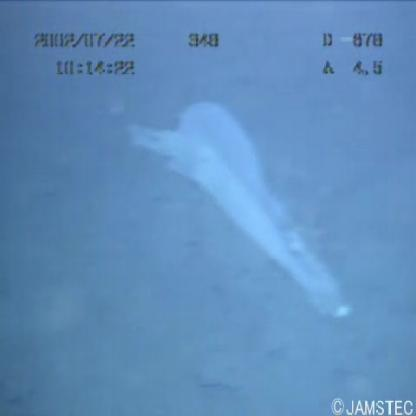Rác: (132, 134, 378, 368)
